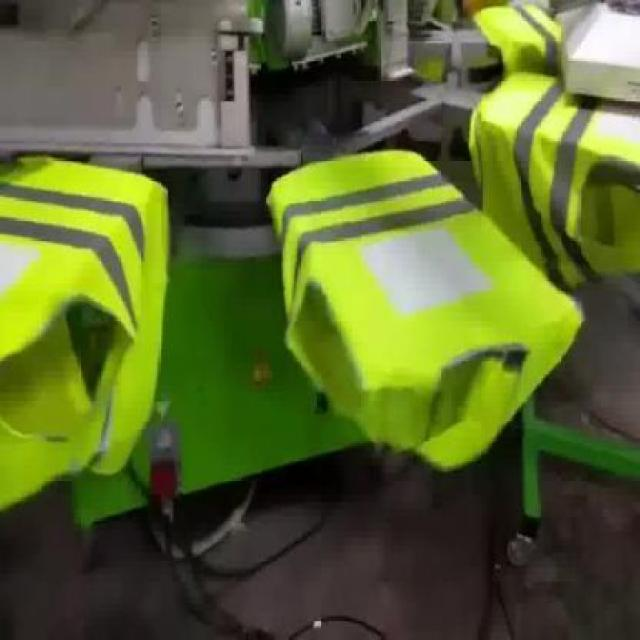Vest: (262, 148, 586, 474), (0, 152, 174, 518), (467, 67, 639, 293)
